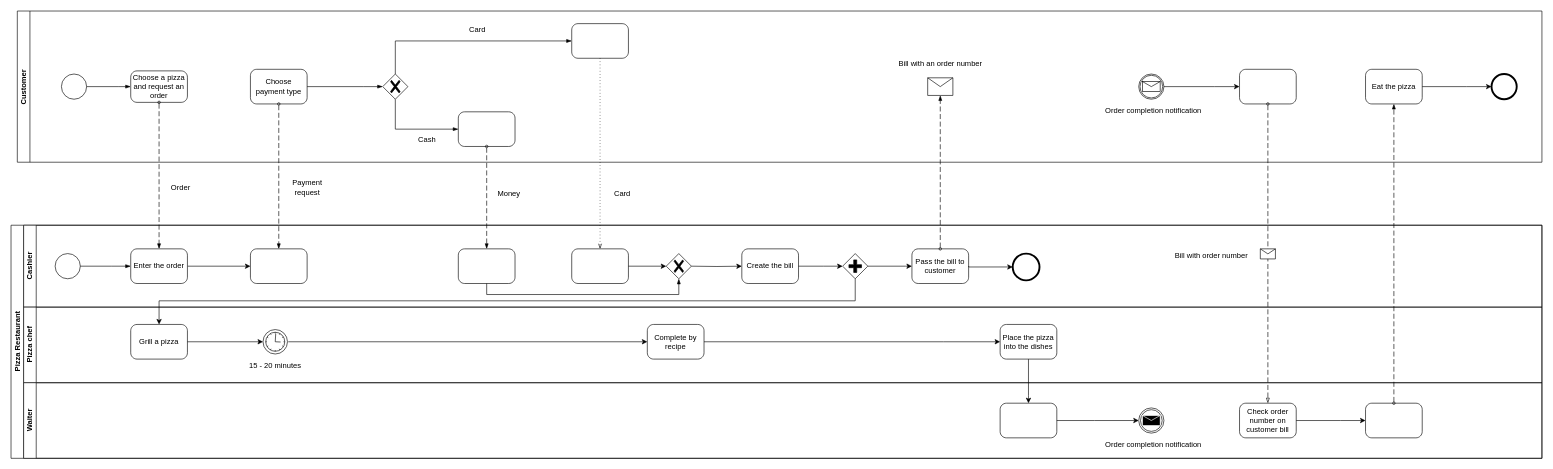
This 1553x469 diagram has some shape labels left out. The shapes that lost their labels are listed below. From the top down, each one's centre as x and y in pixels, then its label:
At point (599, 40): "Pay with Card".
At point (1267, 86): "Ask for pizza".
At point (486, 128): "Pay with Cash".
At point (278, 266): "Request payment".
At point (486, 266): "Store money in the Cash Drawer".
At point (599, 266): "Active payment terminal".
At point (1028, 420): "Notify the order complete".
At point (1393, 420): "Give the pizza to customer".
